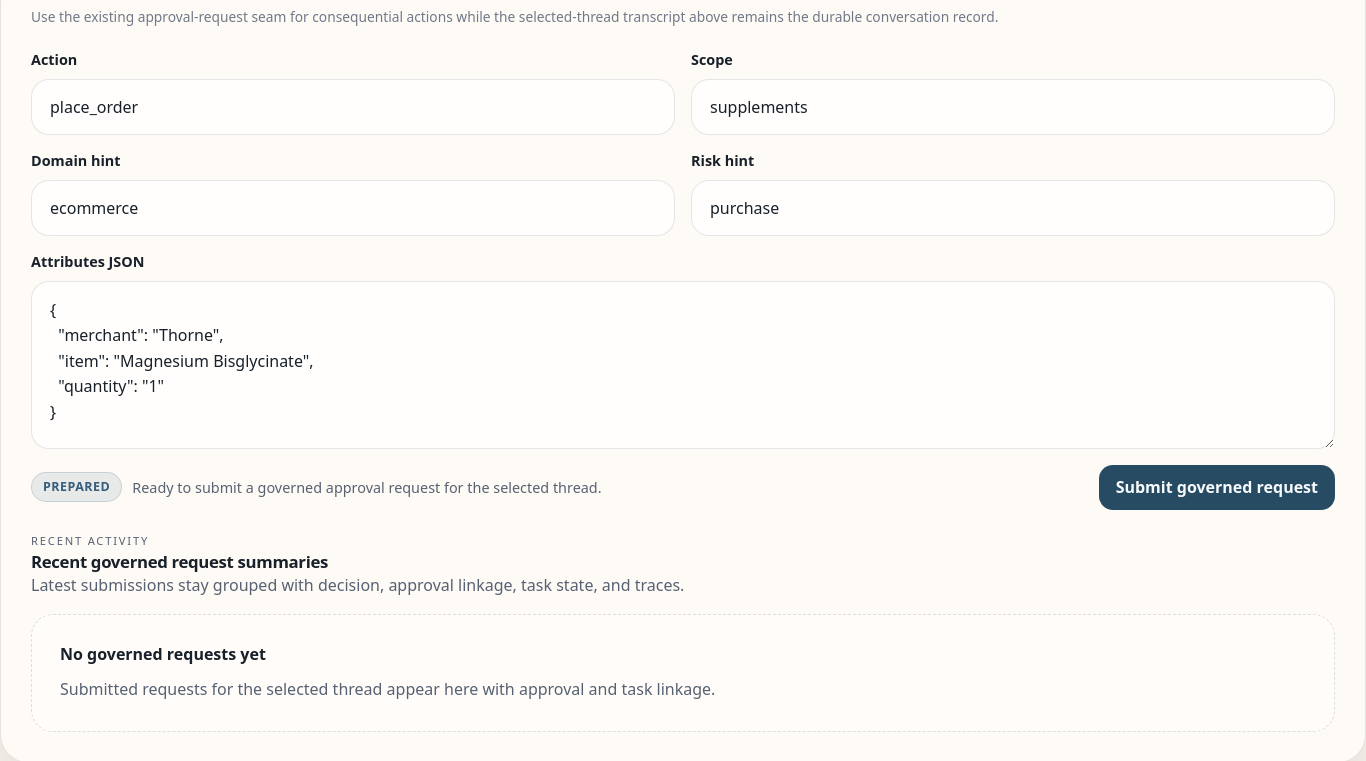
RequestComposer › submits governed requests against the selected thread
(page scrolled)
Click the button "Submit governed request". click: (1217, 487)
box: left=1099, top=465, right=1335, bottom=510
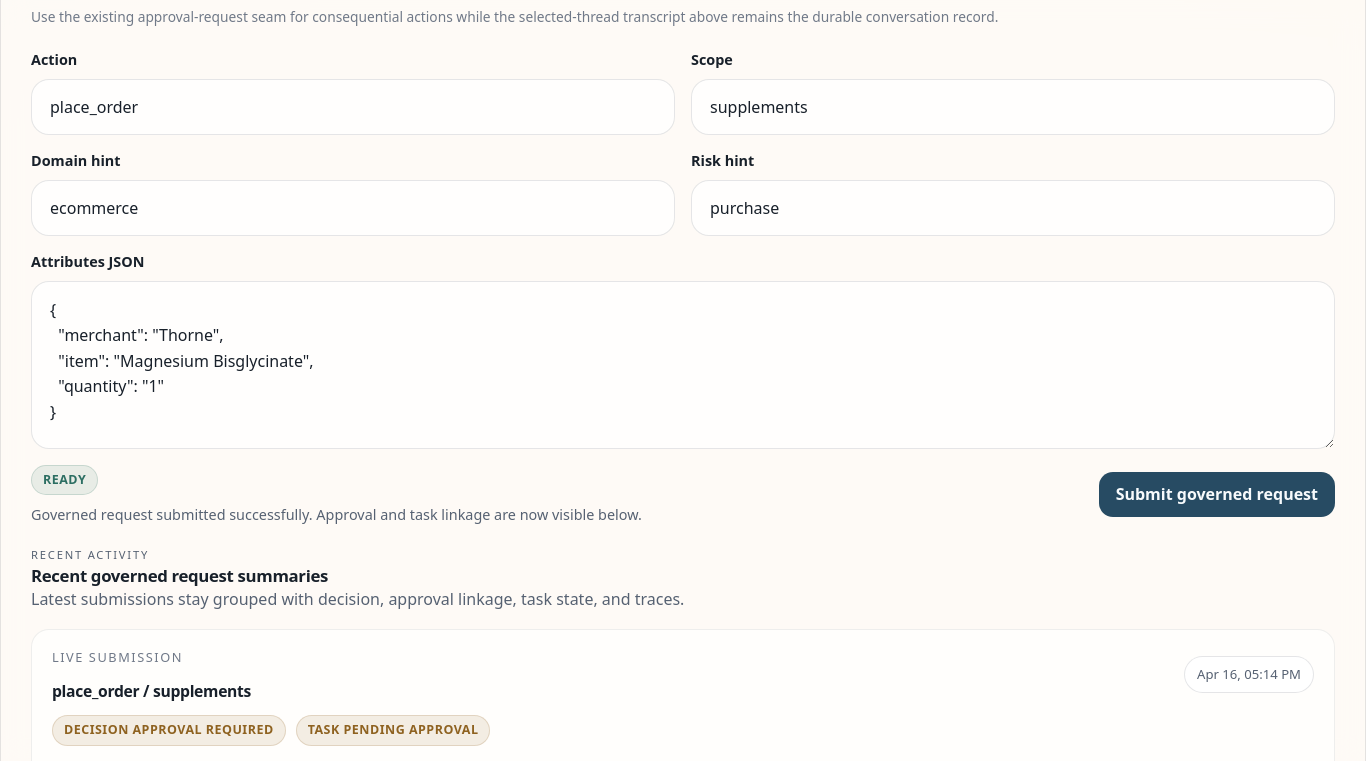
Check: the text "Governed request submitted successfully" is shown, box left=31, top=505, right=642, bottom=524
